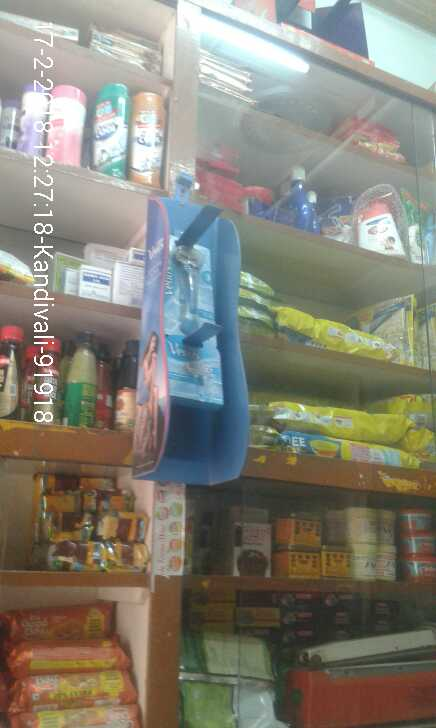beauty: (166, 236, 216, 339), (165, 340, 224, 405)
